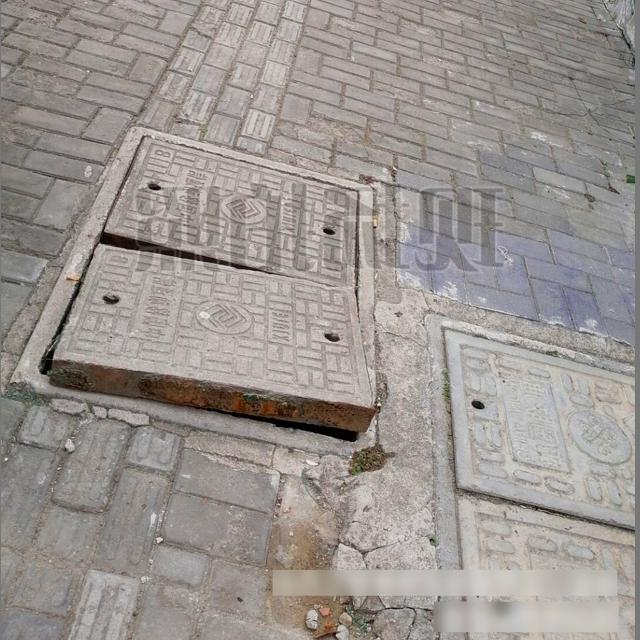good: (416, 317, 627, 640)
uncovered: (8, 125, 383, 451)
